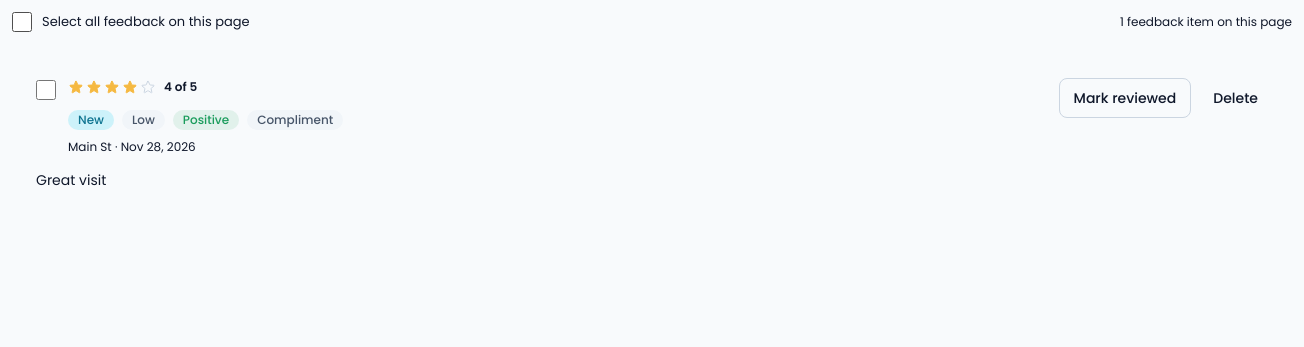
Test case: FeedbackInboxList › clear selection empties the set without calling any action
Click the checkbox named "Select feedback, 4 stars, Nov 28, 2026" at (46, 90), box [36, 80, 56, 100]
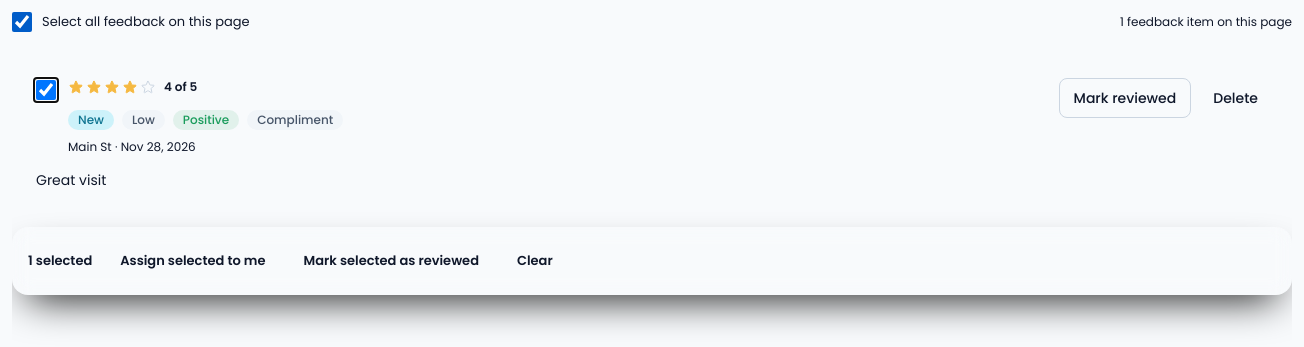
Click the button "Clear" at (535, 260), box [503, 238, 567, 282]
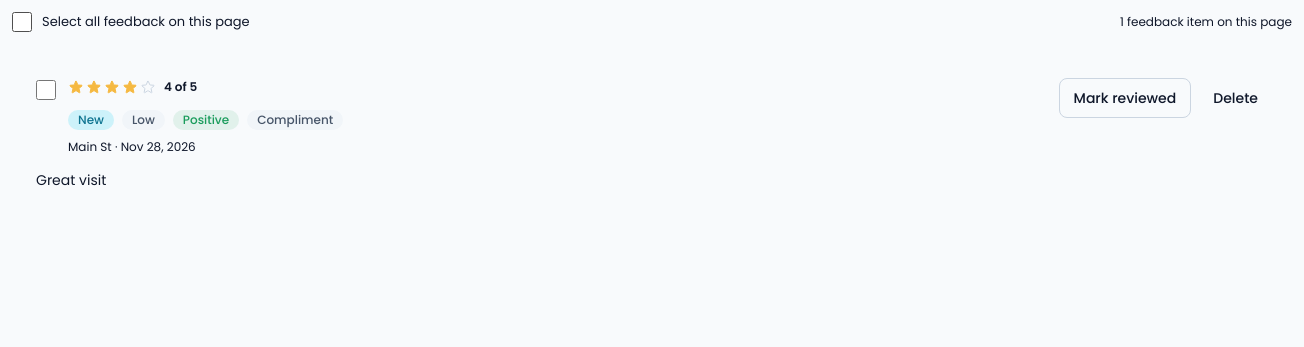
Result: the text "1 selected" is gone
